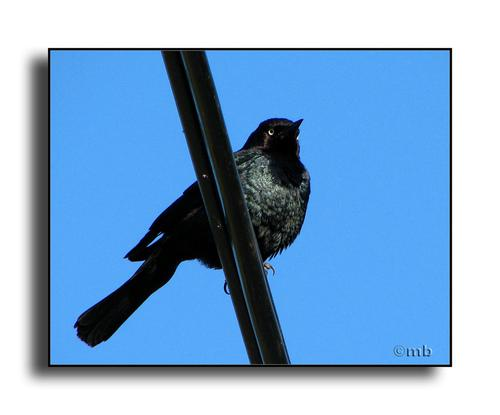009.Brewer_Blackbird: (75, 115, 313, 349)
